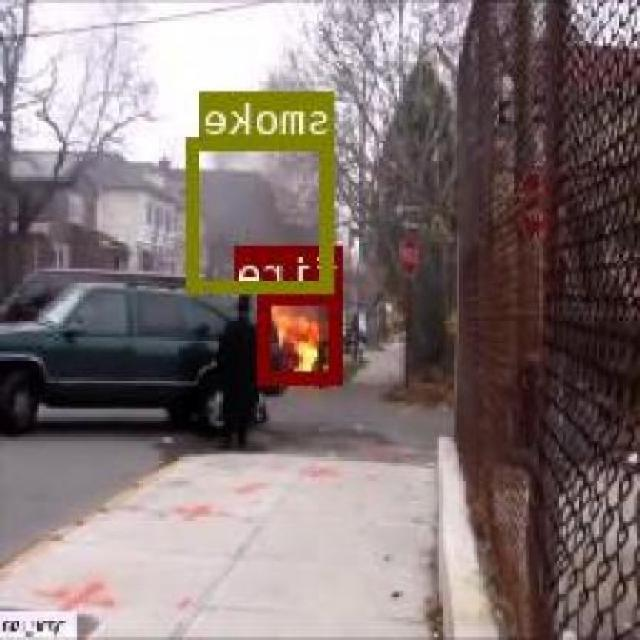Fire: (262, 289, 346, 382)
Smoke: (190, 136, 335, 290)
